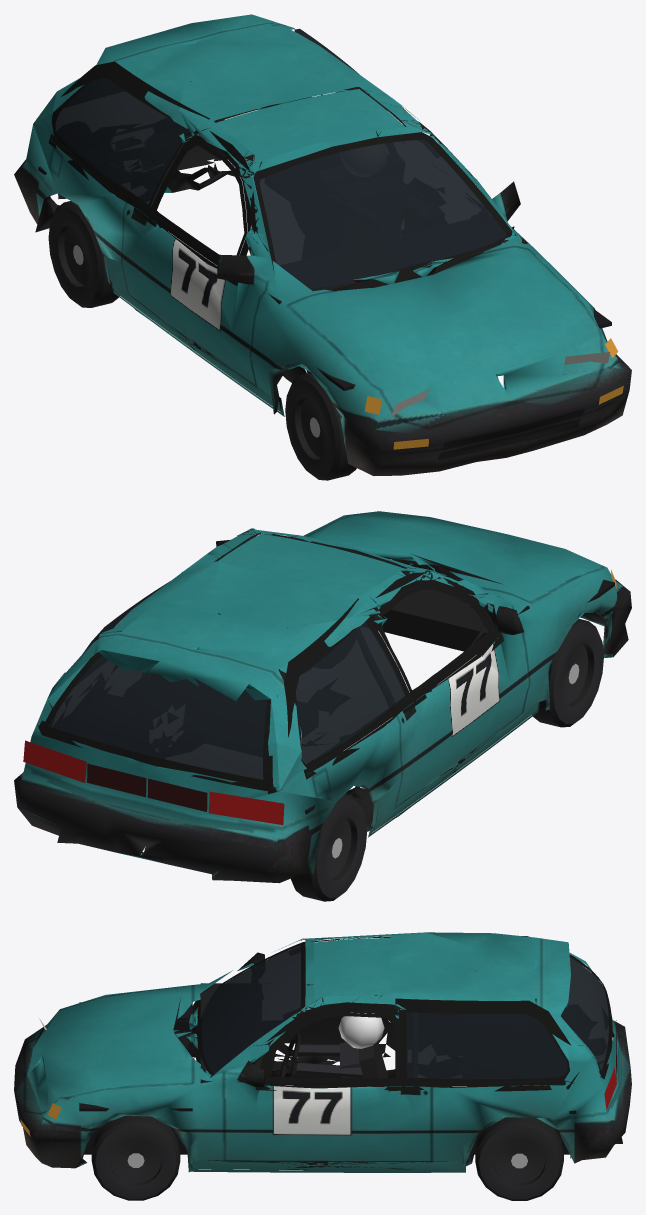
3 views of the same model, one above another, from view 1: azimuth 30°, elevation 25°; view 2: azimuth 150°, elevation 25°; view 3: azimuth 270°, elevation 25° (orthographic). The views are drawn at different scales.
Visible parts, largest first — view 1: body, wheel_fr, wheel_rr; view 2: body, wheel_fr, wheel_rr; view 3: body, wheel_fl, wheel_rl.
Boxes of the visible parts, <box> form: body: <box>14,14,631,475</box>; wheel_fr: <box>285,372,356,480</box>; wheel_rr: <box>48,201,119,307</box>; body: <box>14,511,631,883</box>; wheel_fr: <box>532,619,603,727</box>; wheel_rr: <box>291,793,367,901</box>; body: <box>14,932,631,1172</box>; wheel_fl: <box>91,1115,180,1200</box>; wheel_rl: <box>475,1117,563,1200</box>.
Bounding box in the file's own units: 1.86 × 1.34 × 4.03.
Materials: 2 (1 with a texture image).
